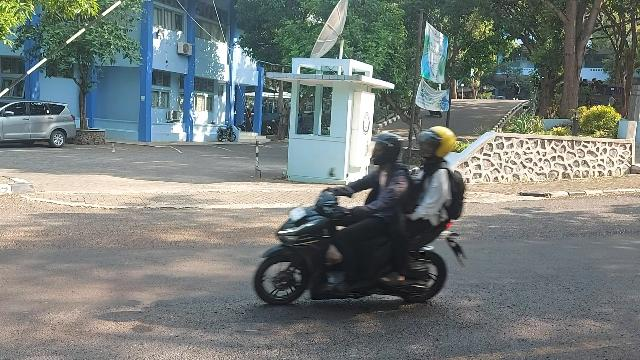helm: (418, 128, 456, 159), (372, 134, 404, 167)
motor: (255, 168, 468, 306)
